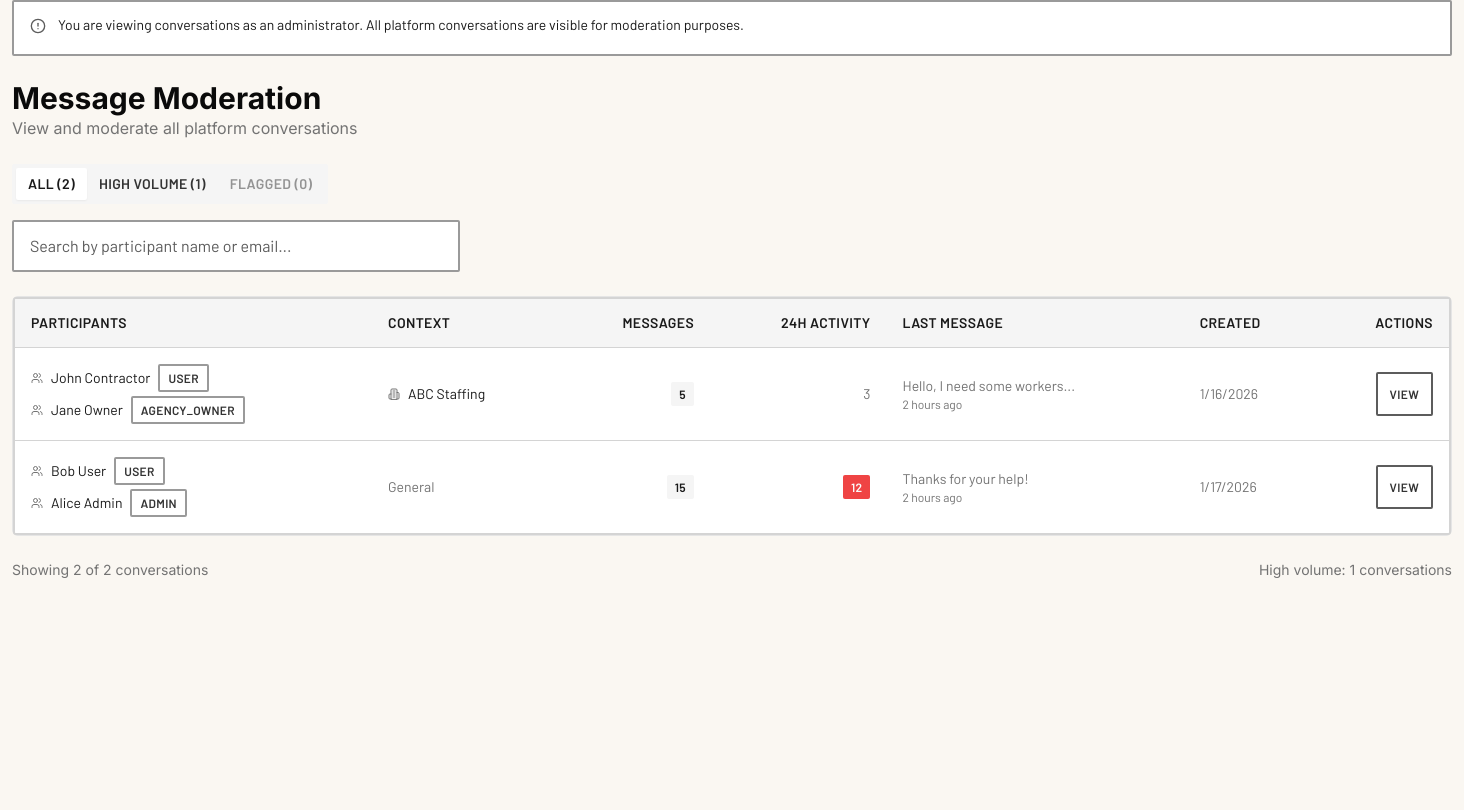
Test: AdminMessagesClient › Search Functionality › should show no results message when no matches
In the search field with placeholder "Search by participant name or email...": (236,246) [12,220,460,272], type "nonexistent"
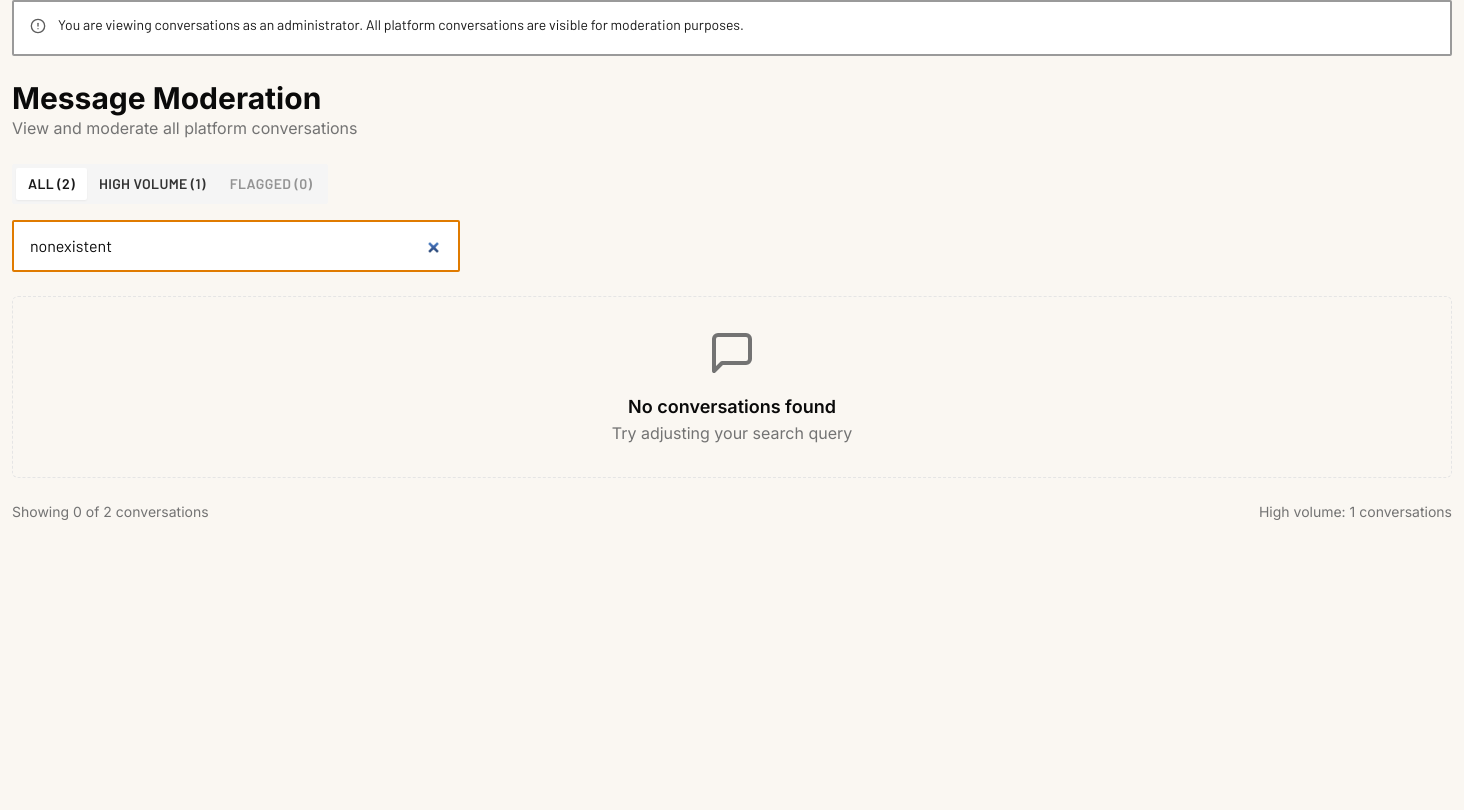
Now the heading "No conversations found" is shown, box [628,396,836,417]
Now the text "Try adjusting your search query" is shown, box [612,423,852,443]
